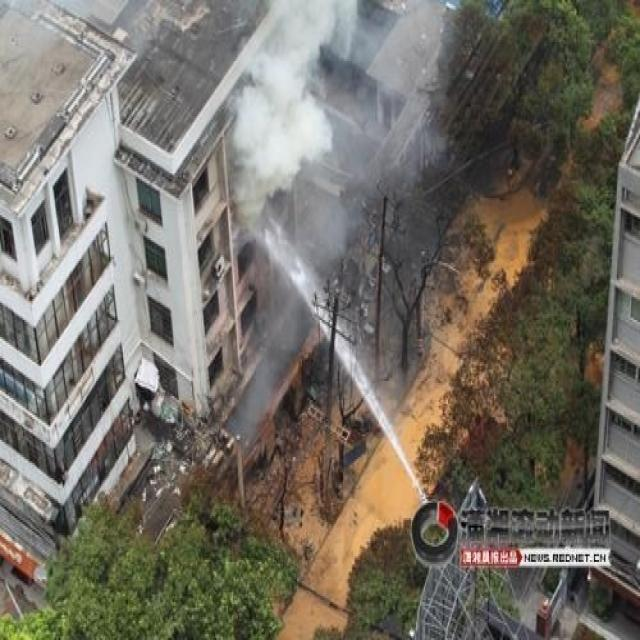Smoke: (228, 2, 449, 444)
